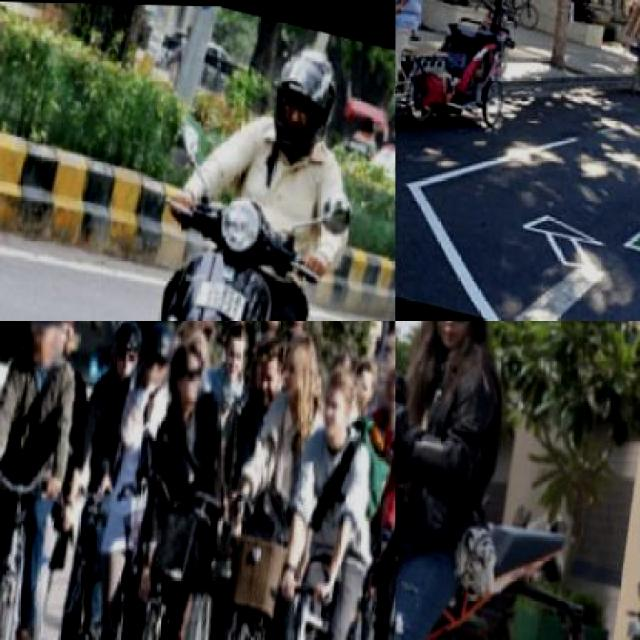With Helmet: (252, 32, 351, 162), (98, 320, 154, 394), (128, 320, 184, 392)
Without Helmet: (268, 326, 332, 422), (304, 353, 362, 442), (158, 333, 216, 416), (408, 320, 506, 366), (12, 320, 77, 378), (366, 355, 394, 434)
